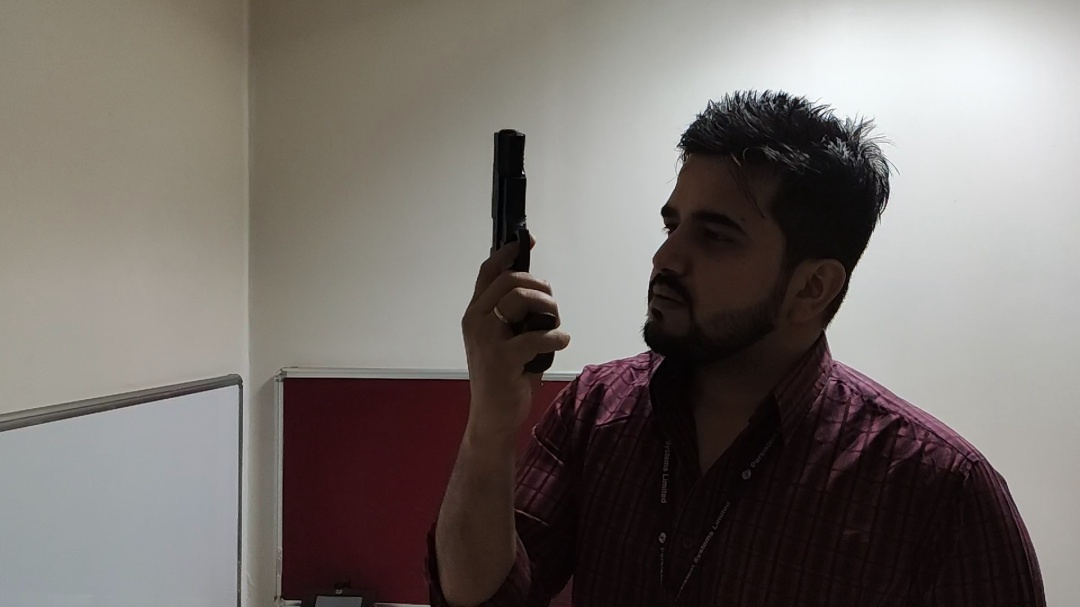gun: (463, 125, 566, 424)
